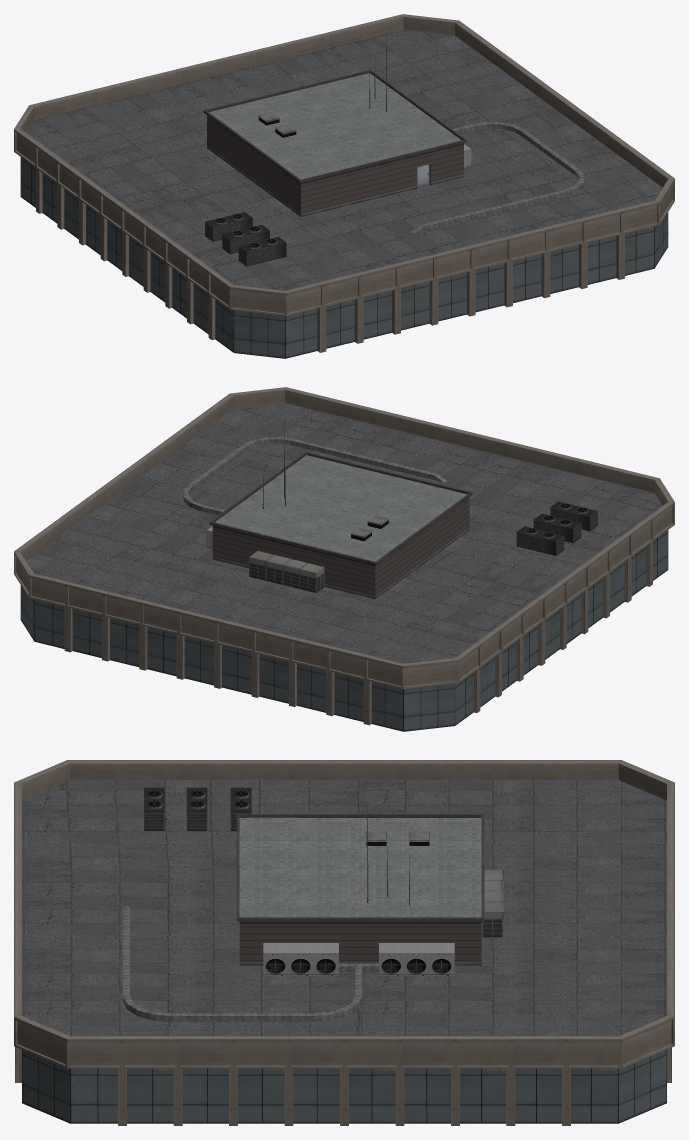
Rendered from Top.glb.
3 views of the same model, one above another, from view 1: azimuth 30°, elevation 25°; view 2: azimuth 150°, elevation 25°; view 3: azimuth 270°, elevation 25° (orthographic). The views are drawn at different scales.
Parts seen in each view (by area): view 1: B_TOP; view 2: B_TOP; view 3: B_TOP.
Part boxes in pixels (x1,y1,x2,y2): B_TOP: (14,14,674,358); B_TOP: (14,387,674,731); B_TOP: (14,760,674,1125).
Bounding box in the file's own units: 32.8 × 11.86 × 32.8.
Materials: 1 (1 with a texture image).
